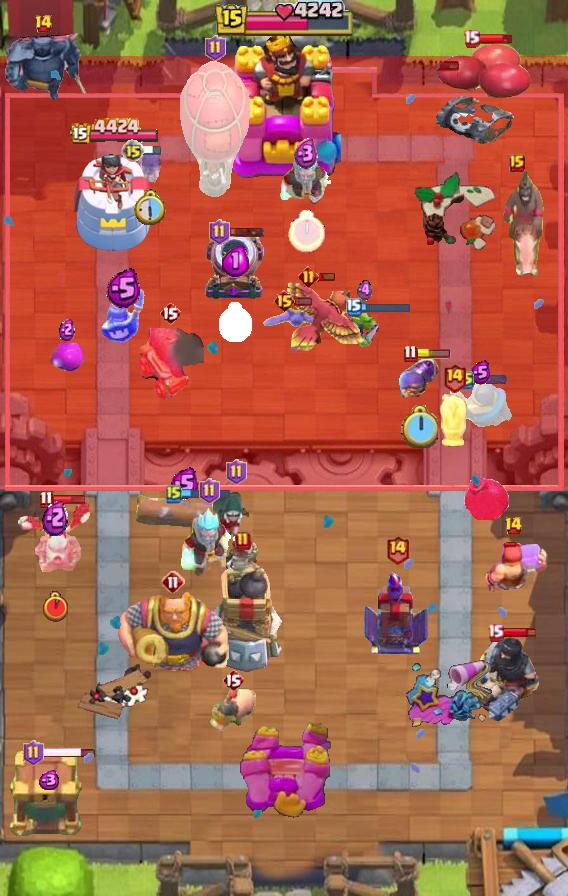baby-dragon: (464, 476, 510, 521)
barbarian: (262, 305, 332, 331)
bomb: (9, 750, 87, 838)
cannon-cart: (179, 61, 251, 201)
clock: (213, 0, 355, 40)
electro-spirit: (106, 268, 142, 309), (42, 499, 68, 537), (170, 468, 199, 501), (223, 245, 249, 277), (294, 138, 318, 170), (469, 360, 490, 385), (36, 770, 60, 790), (59, 317, 75, 341), (357, 279, 371, 302)
elixir: (287, 211, 324, 254), (402, 404, 439, 447), (218, 301, 254, 343), (134, 189, 168, 227), (44, 590, 69, 621)
emote: (40, 746, 95, 759), (180, 488, 232, 500), (360, 301, 411, 313), (502, 625, 538, 638), (228, 226, 265, 238), (477, 33, 513, 45), (472, 374, 508, 385), (50, 495, 85, 506), (415, 349, 451, 359), (316, 271, 336, 282), (143, 145, 162, 156), (294, 297, 313, 308)
executioner: (210, 687, 256, 731), (438, 391, 470, 451)
firecracker: (447, 382, 513, 428)
firecracker-evolution: (398, 357, 440, 399)
freeze: (488, 170, 546, 282)
giant-skeleton: (115, 587, 231, 677)
goblin: (137, 149, 168, 187)
goblin-cage: (203, 232, 267, 302)
golden-knight: (283, 279, 365, 351)
golemite: (0, 28, 90, 104)
ice-spirit-evolution-symbol: (363, 570, 431, 656)
inferno-dragon: (474, 636, 542, 728)
king-tower: (227, 29, 341, 181)
mighty-miner: (478, 539, 548, 595)
miner: (49, 343, 85, 373)
mini-pekka: (18, 502, 92, 574)
minion: (134, 494, 234, 532)
mortar: (177, 507, 241, 579), (277, 144, 335, 208)
princess: (101, 287, 145, 347)
queen-tower: (71, 144, 157, 255)
royal-giant-evolution: (136, 328, 204, 402)
royal-recruit-evolution: (432, 42, 534, 150)
selected: (68, 117, 159, 147)
tesla: (210, 490, 262, 544)
text: (385, 534, 410, 565), (442, 363, 467, 393), (121, 139, 145, 163), (272, 289, 296, 313), (161, 570, 185, 594), (209, 219, 231, 245), (225, 459, 247, 485), (206, 35, 227, 61), (199, 478, 220, 504), (23, 740, 44, 766), (159, 301, 181, 325), (222, 668, 244, 692), (297, 266, 318, 287), (35, 14, 54, 34), (505, 516, 524, 536), (463, 29, 481, 48), (458, 370, 474, 390), (166, 484, 182, 504), (235, 531, 251, 551), (487, 623, 504, 641), (509, 154, 525, 172), (346, 298, 362, 316), (403, 344, 417, 363), (39, 491, 53, 510)
zap: (344, 310, 384, 348)
zappy: (200, 540, 287, 676)
